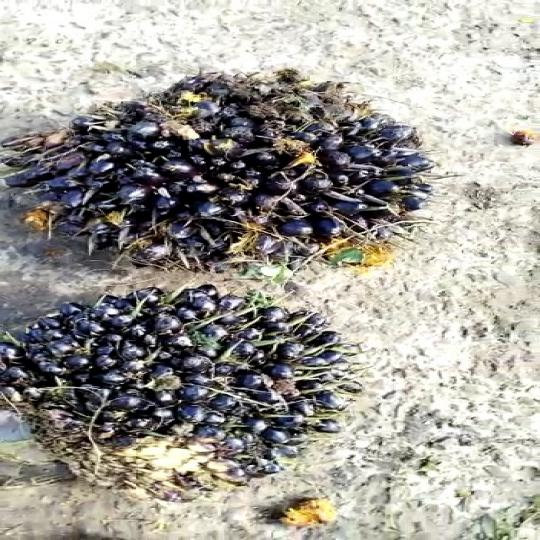mentah: (20, 73, 456, 288), (0, 301, 374, 513)
